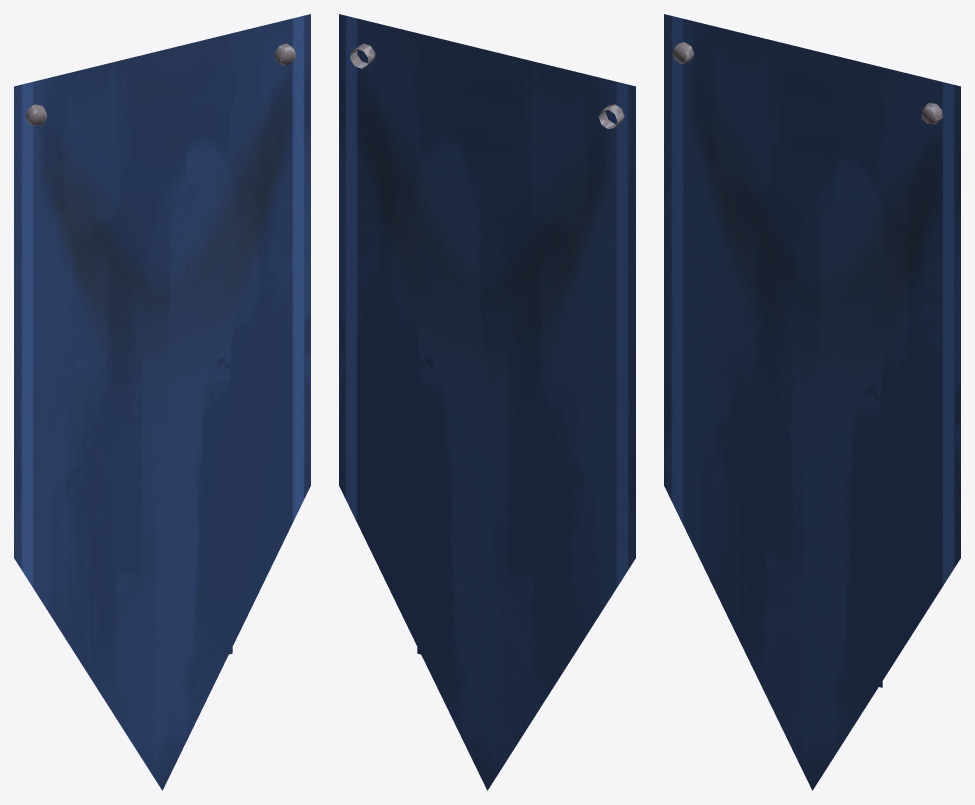
The model's file is Banner_2_Cloth.gltf.
3 views of the same model, side by side, from view 1: azimuth 30°, elevation 25°; view 2: azimuth 150°, elevation 25°; view 3: azimuth 330°, elevation 25° (orthographic).
Parts seen in each view (by area): view 1: Banner_2_Cloth; view 2: Banner_2_Cloth; view 3: Banner_2_Cloth.
Boxes of the visible parts, box(x1,y1,x2,y2) form: Banner_2_Cloth: box(14, 14, 310, 790); Banner_2_Cloth: box(339, 14, 635, 790); Banner_2_Cloth: box(664, 14, 960, 790).
Size of the model in its own units: 0.8102 by 1.93 by 0.0568.
Materials: 2 (2 with a texture image).
